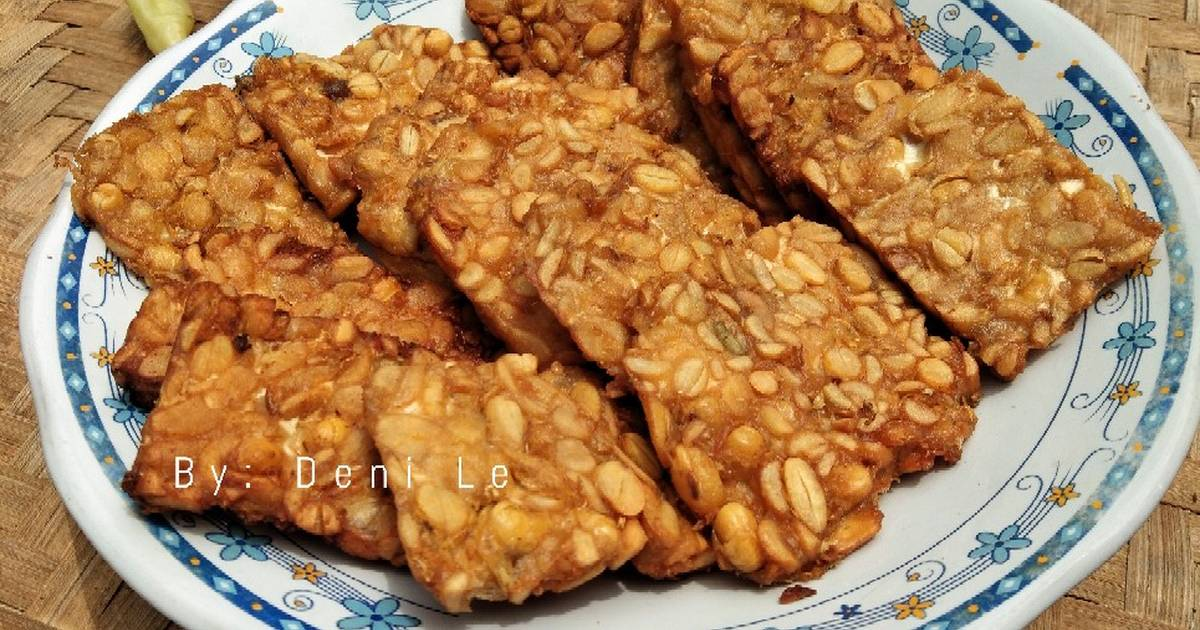Tempe: (94, 119, 440, 355), (795, 119, 1147, 343), (329, 371, 626, 618), (576, 293, 914, 487), (186, 313, 476, 522), (542, 198, 773, 319)
